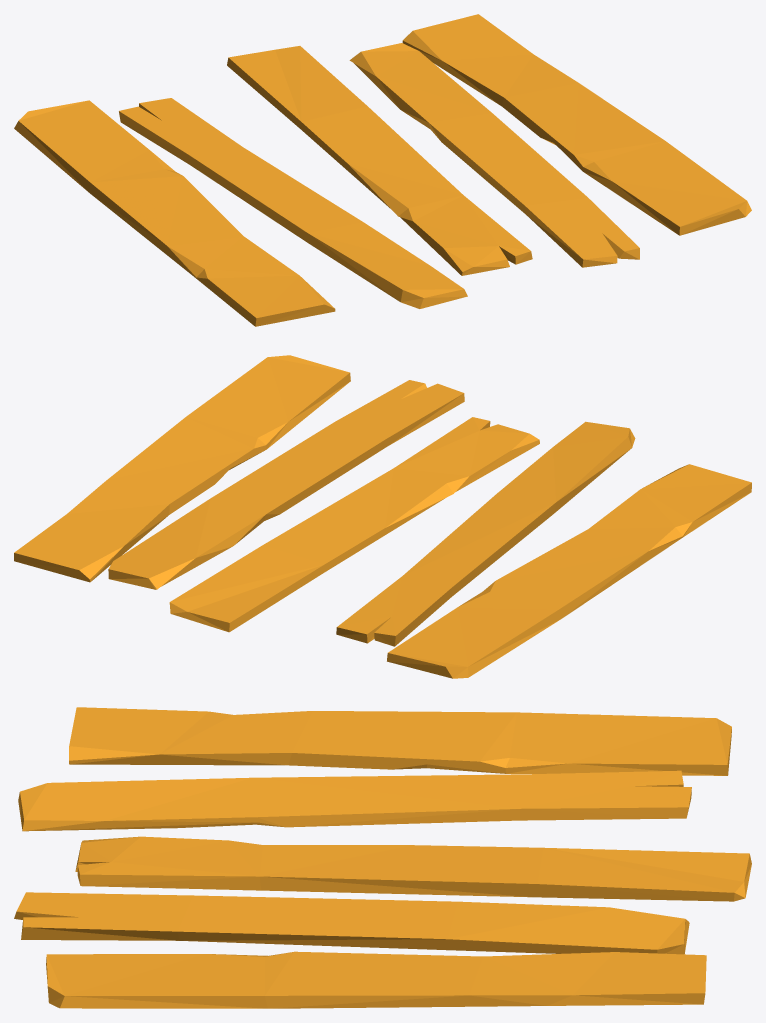
Rendered from SM_Path_Woodplanks_2m_Fantasy.fbx.
3 renders of one model, top to bottom at view 1: azimuth 30°, elevation 25°; view 2: azimuth 150°, elevation 25°; view 3: azimuth 270°, elevation 25°, orthographic. The views are drawn at different scales.
Visible parts, largest first — view 1: path-woodplanks-2m-fantasy; view 2: path-woodplanks-2m-fantasy; view 3: path-woodplanks-2m-fantasy.
Boxes of the visible parts, x1,y1,x2,y2 form: path-woodplanks-2m-fantasy: (14,14,751,326); path-woodplanks-2m-fantasy: (14,355,751,678); path-woodplanks-2m-fantasy: (14,707,751,1008).
Size of the model in its own units: 1.86 by 0.0624 by 1.98.
